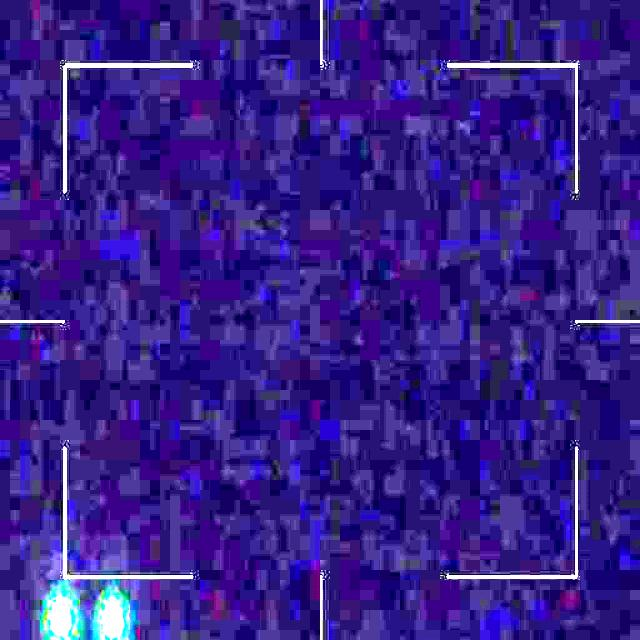bird: (45, 592, 126, 640)
